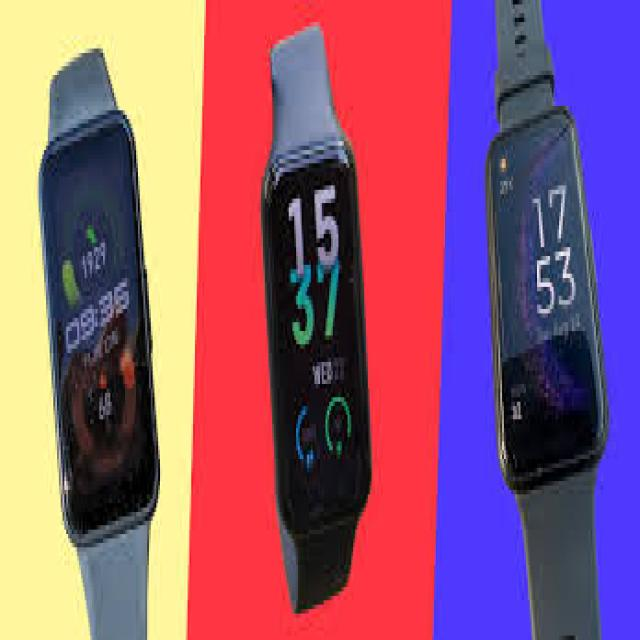objects: (39, 36, 159, 638), (260, 27, 369, 615)
